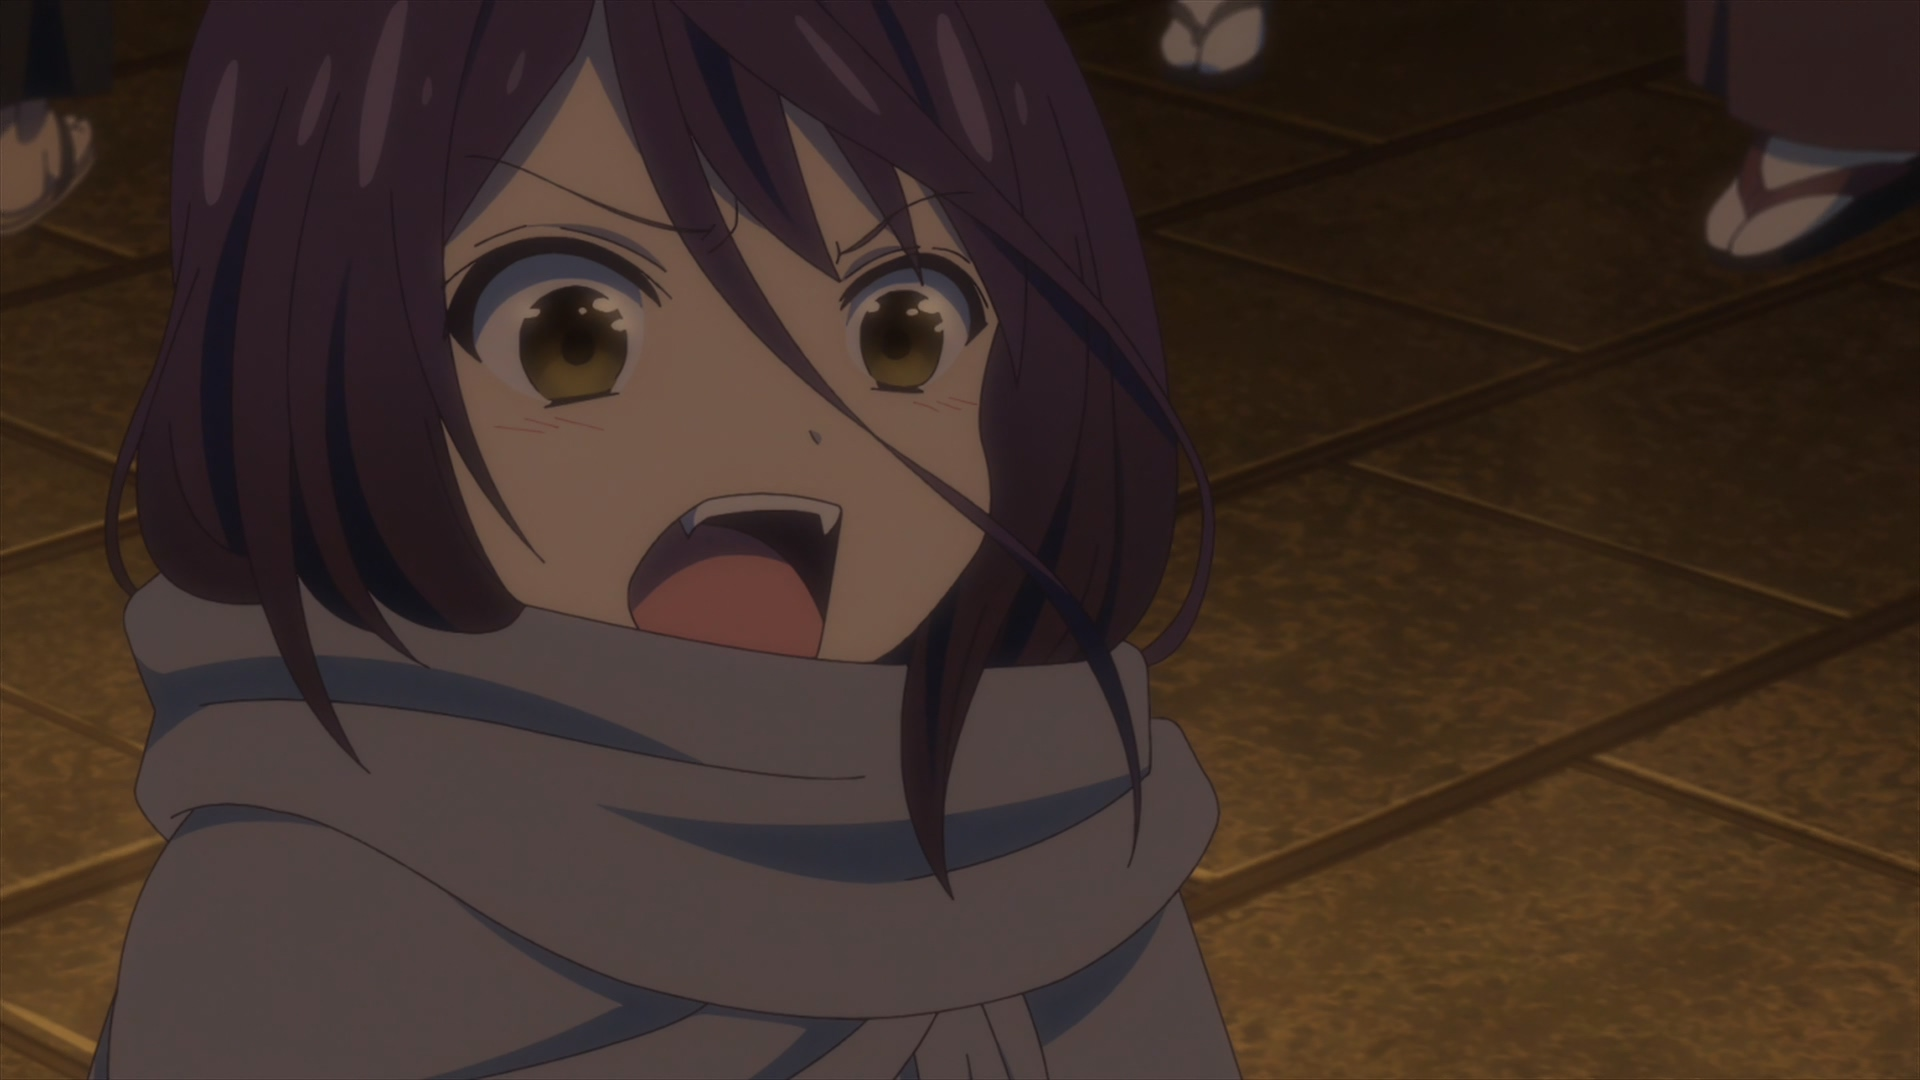其他: (1673, 1, 1920, 262)
皋: (86, 1, 1249, 1080)
